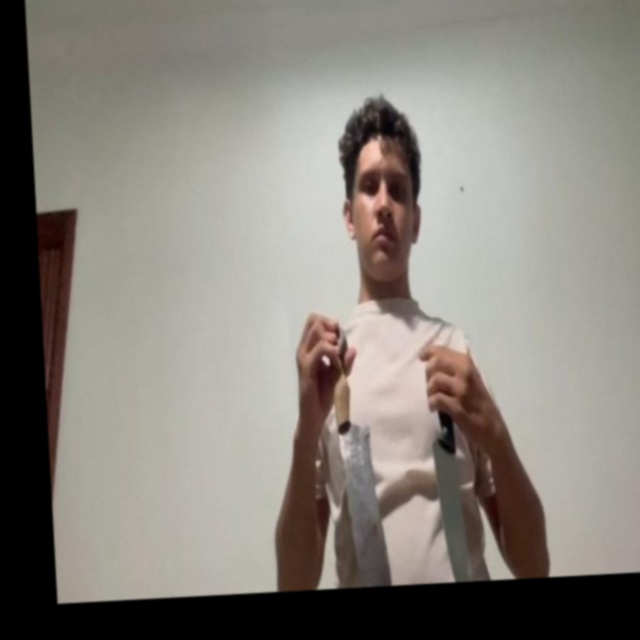Sharp-Object: (338, 423, 390, 588), (431, 439, 469, 583)
